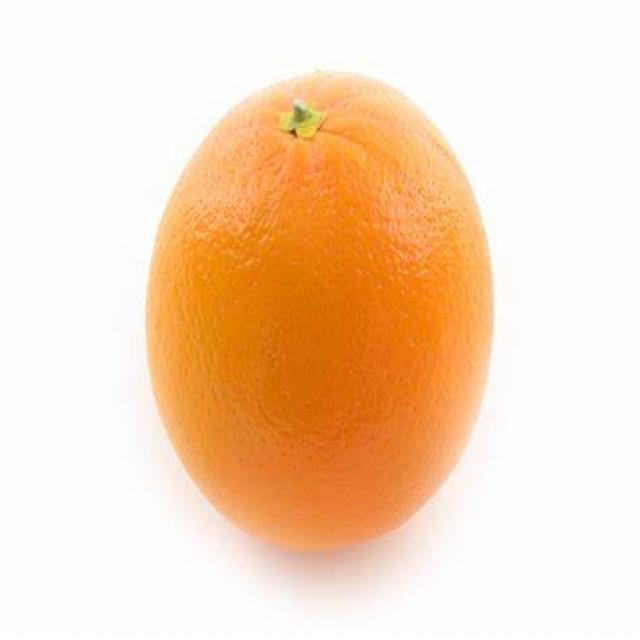Orange: (142, 75, 501, 551)
